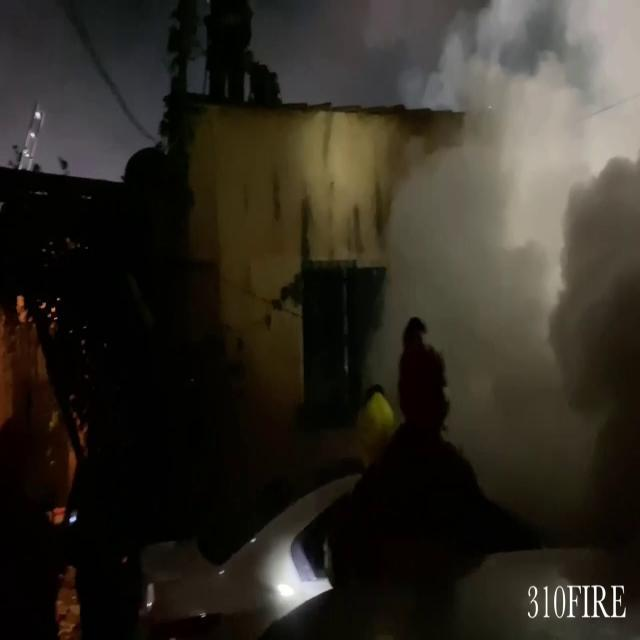Smoke: (381, 0, 640, 501)
